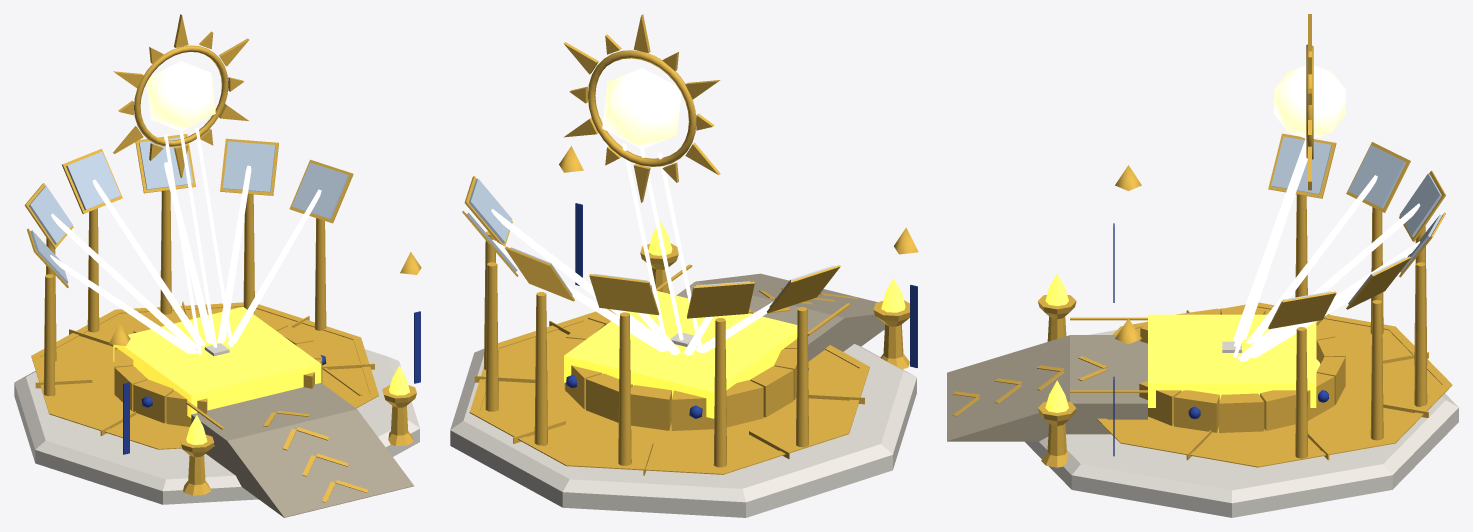
File: SolarCrucibleFurnace_Roblox.fbx
3 renders of one model, left to right at view 1: azimuth 30°, elevation 25°; view 2: azimuth 150°, elevation 25°; view 3: azimuth 270°, elevation 25°, orthographic. The views are drawn at different scales.
Visible parts, largest first — view 1: Gold, Conveyor, WhiteMarble, BurnZone, SunBeam, Mirror, SunCore, Lapis, MoltenGold; view 2: Gold, WhiteMarble, BurnZone, SunBeam, Conveyor, SunCore, Mirror, Lapis, MoltenGold; view 3: Gold, WhiteMarble, Conveyor, BurnZone, SunBeam, Mirror, SunCore, MoltenGold.
Part boxes in pixels (<box>): Gold: <box>24,14,421,502</box>; Conveyor: <box>191,383,413,517</box>; WhiteMarble: <box>14,343,419,504</box>; BurnZone: <box>113,307,321,418</box>; SunBeam: <box>50,127,321,354</box>; Mirror: <box>28,136,349,283</box>; SunCore: <box>147,61,215,131</box>; Lapis: <box>123,311,420,454</box>; MoltenGold: <box>186,365,409,444</box>; Gold: <box>462,14,918,475</box>; WhiteMarble: <box>450,332,916,517</box>; BurnZone: <box>564,291,797,418</box>; SunBeam: <box>491,143,773,355</box>; Conveyor: <box>676,273,884,361</box>; SunCore: <box>602,68,681,149</box>; Mirror: <box>466,178,834,307</box>; Lapis: <box>566,203,917,418</box>; MoltenGold: <box>648,221,905,312</box>; Gold: <box>952,14,1452,467</box>; WhiteMarble: <box>1025,330,1458,517</box>; Conveyor: <box>947,335,1147,441</box>; BurnZone: <box>1148,314,1316,407</box>; SunBeam: <box>1233,138,1420,361</box>; Mirror: <box>1271,136,1441,304</box>; SunCore: <box>1274,65,1345,138</box>; MoltenGold: <box>1045,273,1320,412</box>.
Bounding box in the file's own units: 1400 × 1550 × 1580.
